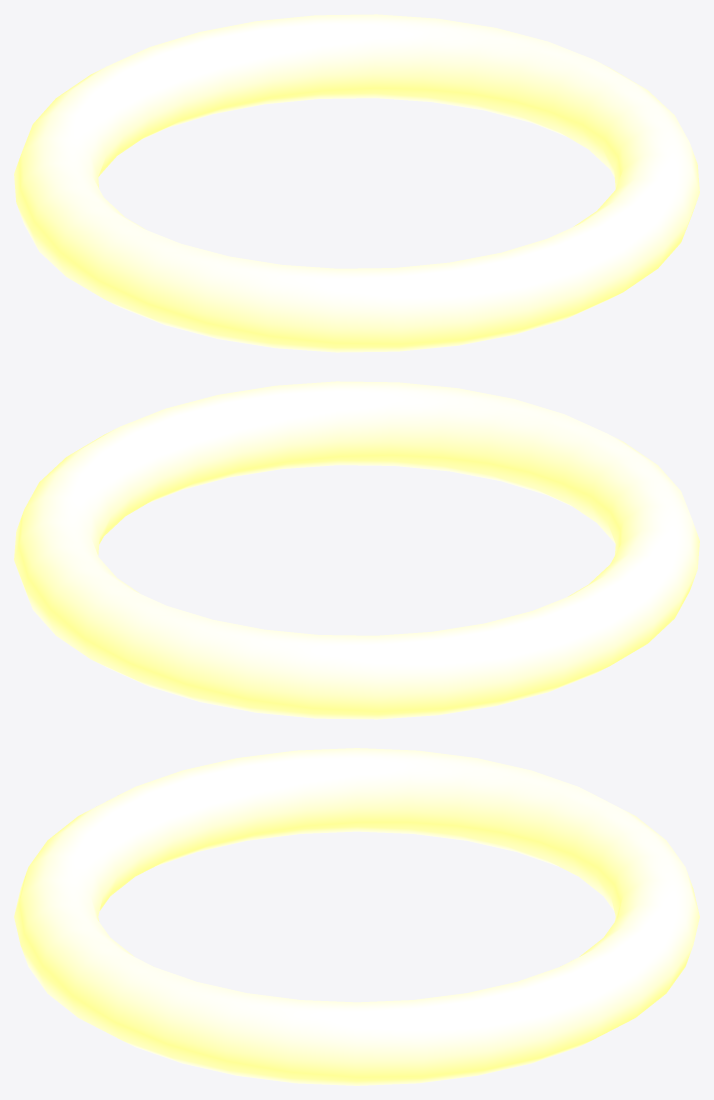
The model's file is acc_halo.glb.
3 renders of one model, top to bottom at view 1: azimuth 30°, elevation 25°; view 2: azimuth 150°, elevation 25°; view 3: azimuth 270°, elevation 25°, orthographic.
Visible parts, largest first — view 1: Halo; view 2: Halo; view 3: Halo.
Boxes of the visible parts, box(x1,y1,x2,y2) form: Halo: box(14, 14, 699, 352); Halo: box(14, 381, 699, 719); Halo: box(14, 748, 699, 1085).
Bounding box in the file's own units: 0.456 × 0.0533 × 0.456.
